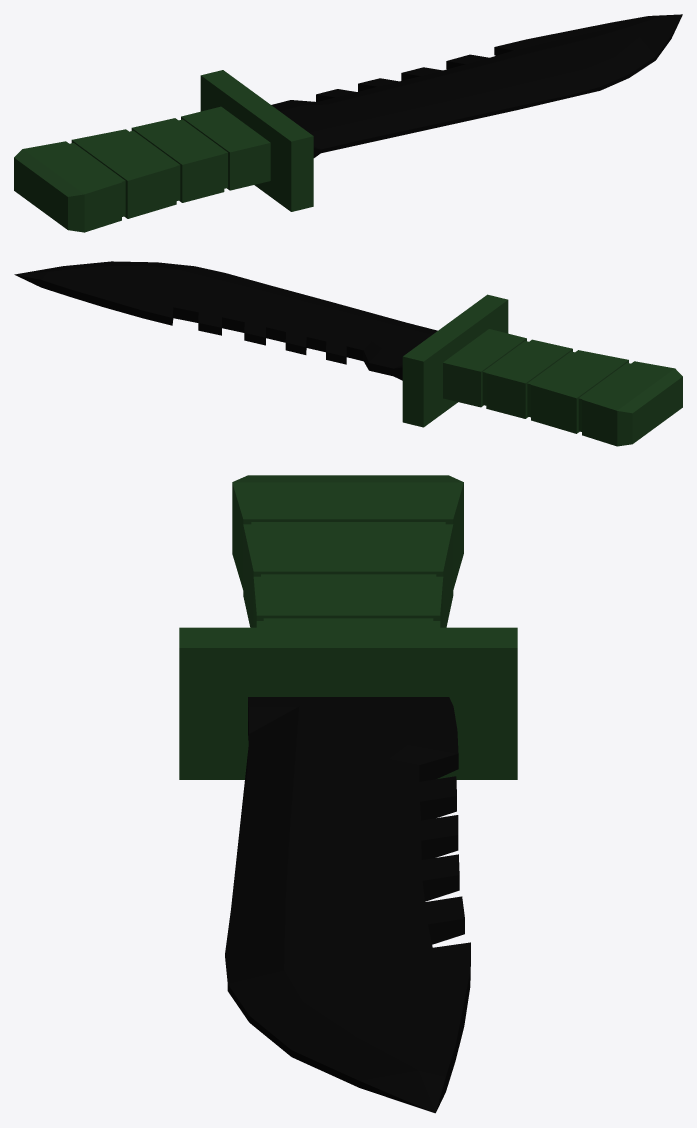
The model's file is deradagger.FBX.
The picture shows the model from 3 angles, top to bottom: view 1: azimuth 30°, elevation 25°; view 2: azimuth 150°, elevation 25°; view 3: azimuth 270°, elevation 25°; orthographic projection. The views are drawn at different scales.
Visible parts, largest first — view 1: Hilt, Blade; view 2: Hilt, Blade; view 3: Blade, Hilt.
Part boxes in pixels (x1,y1,x2,y2): Hilt: [14, 70, 313, 232]; Blade: [271, 14, 682, 157]; Hilt: [402, 294, 682, 446]; Blade: [14, 261, 437, 380]; Blade: [225, 697, 470, 1113]; Hilt: [179, 475, 517, 779].
Size of the model in its own units: 347 by 35.11 by 81.72.
